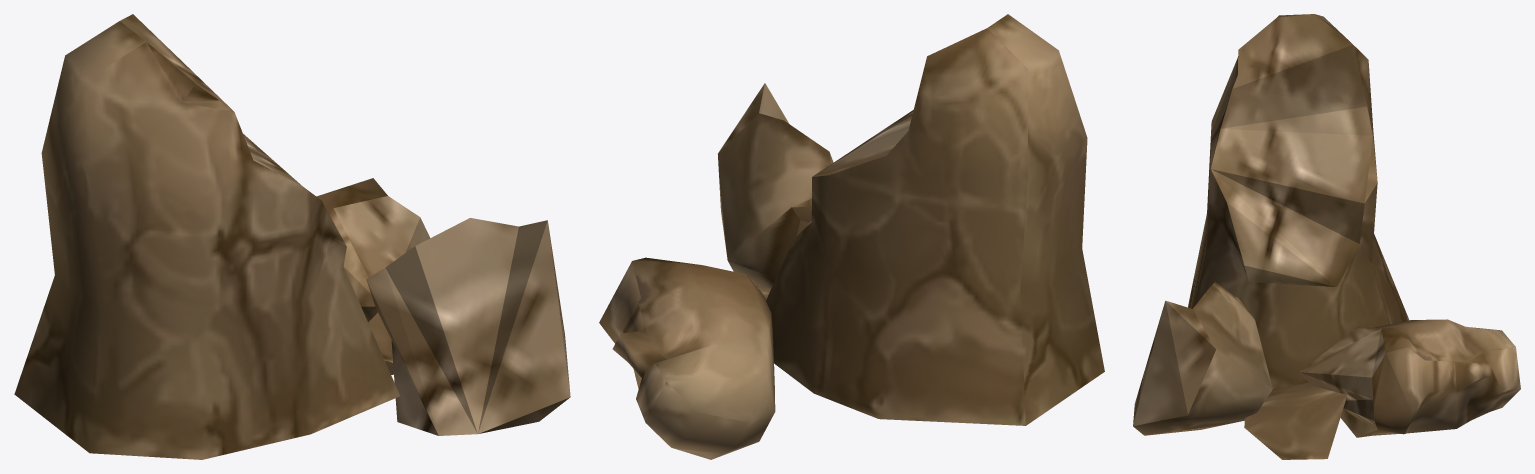
Rendered from FB_5_shixiang02.FBX.
3 renders of one model, left to right at view 1: azimuth 30°, elevation 25°; view 2: azimuth 150°, elevation 25°; view 3: azimuth 270°, elevation 25°, orthographic. The views are drawn at different scales.
Visible parts, largest first — view 1: shixiang02; view 2: shixiang02; view 3: shixiang02.
Part boxes in pixels (x1=…): shixiang02: x1=14, y1=14, x2=570, y2=459; shixiang02: x1=599, y1=14, x2=1104, y2=459; shixiang02: x1=1133, y1=14, x2=1520, y2=459.
Size of the model in its own units: 724 by 681 by 715.
1 material, 1 textured.
